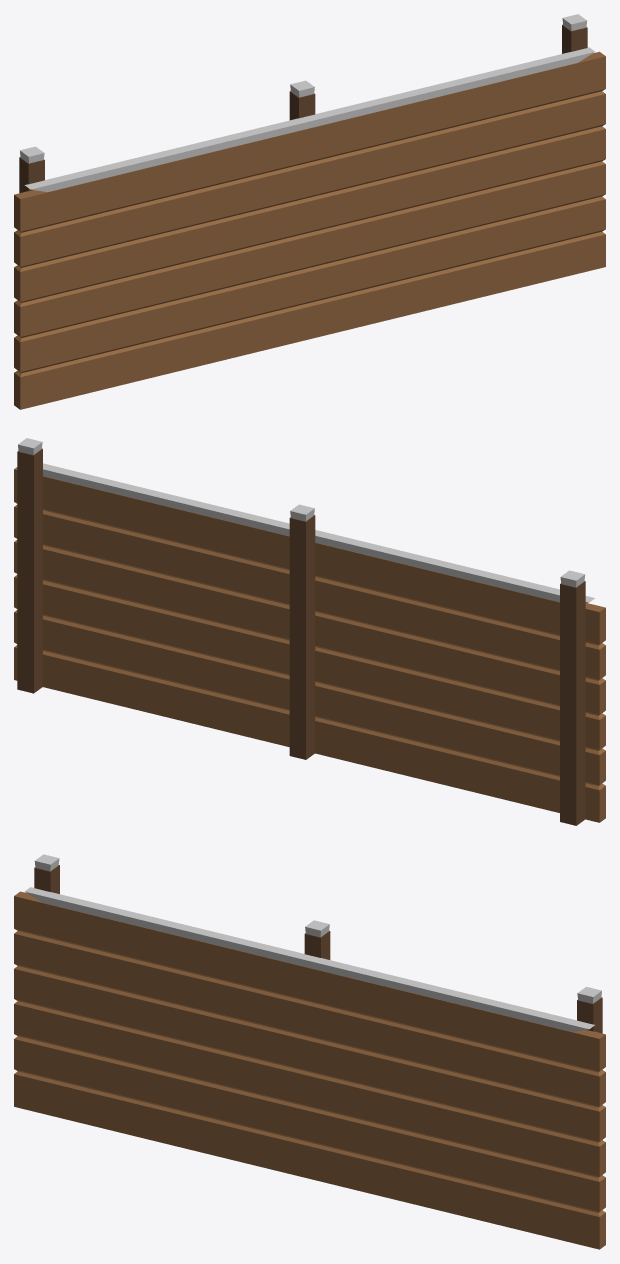
The model's file is ArcheryRange_fence_snow_mat.fbx.
The picture shows the model from 3 angles, top to bottom: view 1: azimuth 30°, elevation 25°; view 2: azimuth 150°, elevation 25°; view 3: azimuth 330°, elevation 25°; orthographic projection.
Parts seen in each view (by area): view 1: ArcheryRange_fence_snow_mat; view 2: ArcheryRange_fence_snow_mat; view 3: ArcheryRange_fence_snow_mat.
Boxes of the visible parts, x1,y1,x2,y2 form: ArcheryRange_fence_snow_mat: (14,14,605,409); ArcheryRange_fence_snow_mat: (14,438,605,825); ArcheryRange_fence_snow_mat: (14,854,605,1249).
Size of the model in its own units: 377 by 151 by 17.02.
